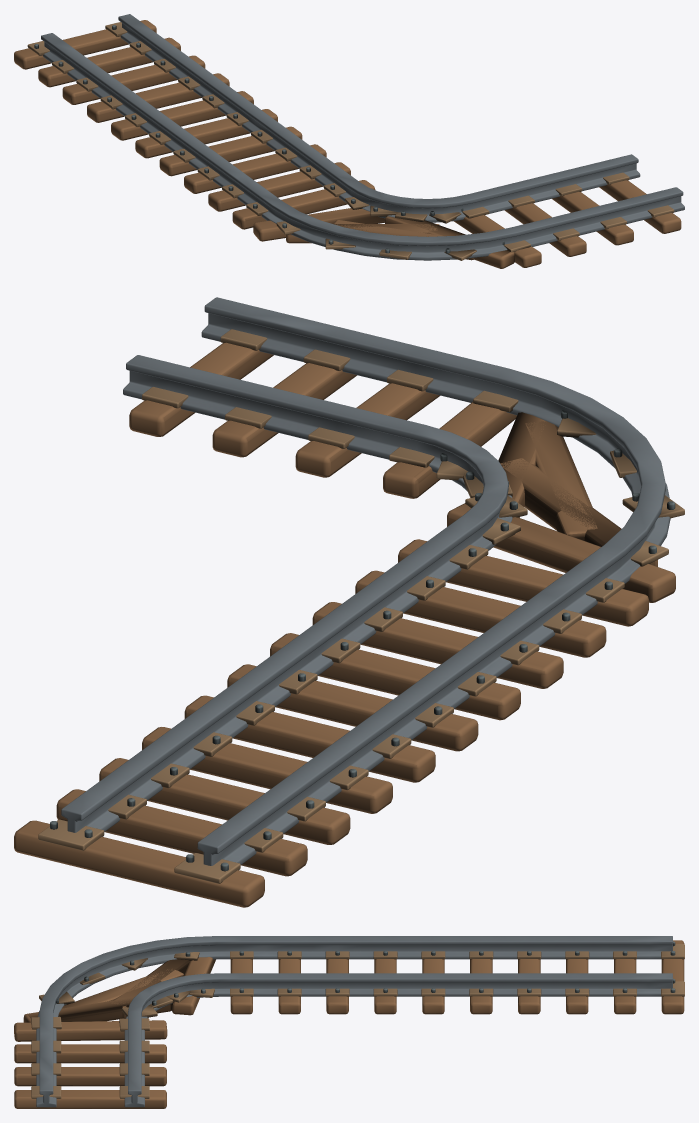
Rendered from MineTrack.fbx.
3 views of the same model, one above another, from view 1: azimuth 30°, elevation 25°; view 2: azimuth 150°, elevation 25°; view 3: azimuth 270°, elevation 25° (orthographic). The views are drawn at different scales.
Visible parts, largest first — view 1: MineTrack_Steel, MineTrack_TunnelOak, MineTrack_Oxide, MineTrack_BlackIron; view 2: MineTrack_TunnelOak, MineTrack_Steel, MineTrack_Oxide, MineTrack_BlackIron; view 3: MineTrack_Steel, MineTrack_TunnelOak, MineTrack_Oxide, MineTrack_BlackIron.
Part boxes in pixels (box(x1,y1,x2,y2)): MineTrack_Steel: box(41, 14, 684, 260); MineTrack_TunnelOak: box(14, 20, 681, 268); MineTrack_Oxide: box(27, 22, 674, 260); MineTrack_BlackIron: box(34, 25, 504, 253); MineTrack_TunnelOak: box(14, 342, 675, 907); MineTrack_Steel: box(61, 297, 670, 865); MineTrack_Oxide: box(38, 329, 684, 883); MineTrack_BlackIron: box(50, 410, 675, 871); MineTrack_Steel: box(36, 936, 672, 1107); MineTrack_TunnelOak: box(14, 940, 684, 1108); MineTrack_Oxide: box(31, 944, 684, 1098); MineTrack_BlackIron: box(56, 941, 675, 1015).
Bounding box in the file's own units: 2.62 × 0.193 × 4.48.
Materials: 4 (1 with a texture image).
